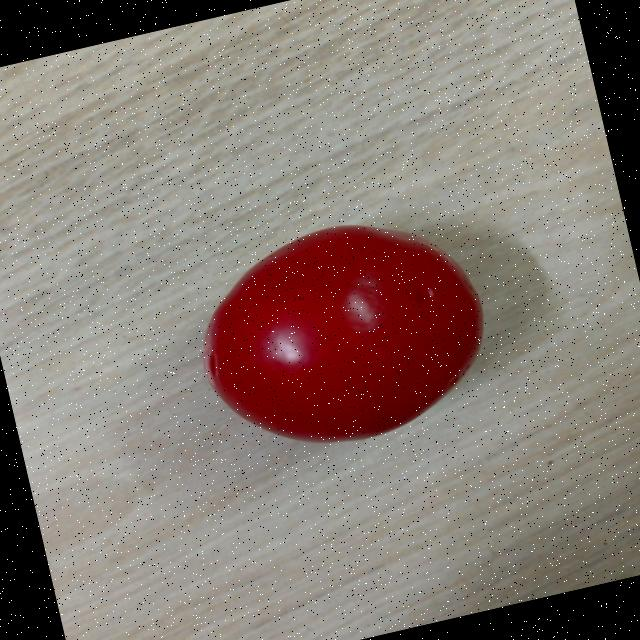Tomato: (177, 195, 507, 470)
